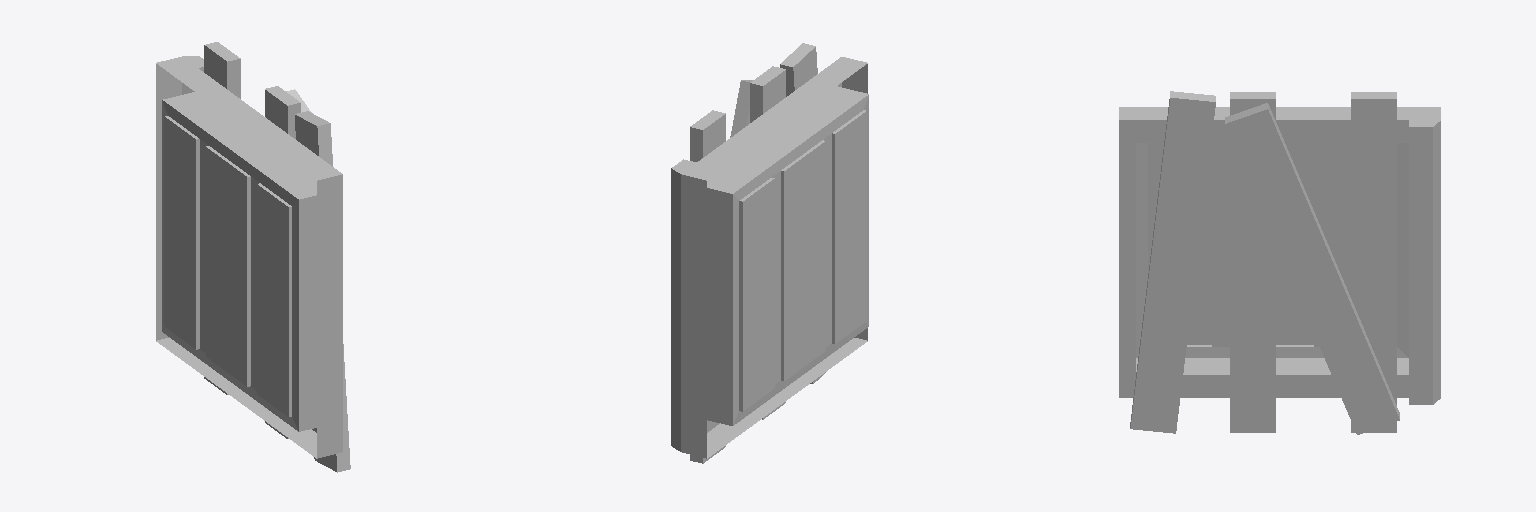
Rendered from SmallWindow.obj.
The picture shows the model from 3 angles: view 1: azimuth 30°, elevation 25°; view 2: azimuth 150°, elevation 25°; view 3: azimuth 270°, elevation 25°; orthographic projection.
Visible parts, largest first — view 1: SmallWindow.001; view 2: SmallWindow.001; view 3: SmallWindow.001.
Part boxes in pixels (x1,y1,x2,y2): SmallWindow.001: (156,42,350,472); SmallWindow.001: (671,43,868,463); SmallWindow.001: (1119,91,1440,434).
Bounding box in the file's own units: 2.5 × 12.09 × 10.5.